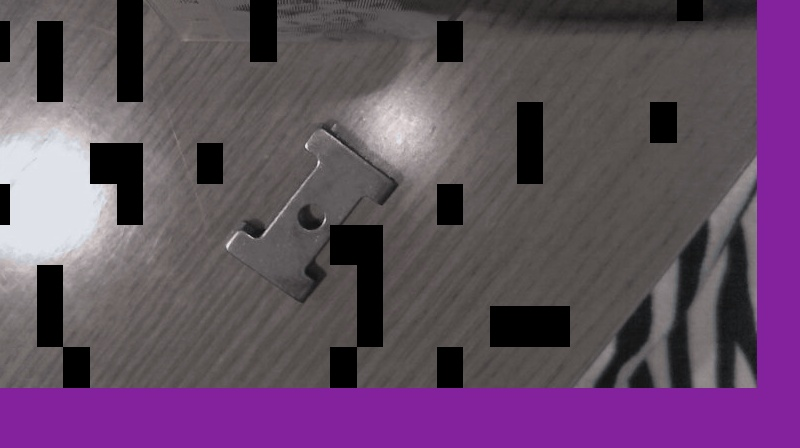O002: (221, 120, 401, 302)
